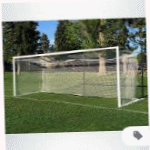goals: (11, 45, 140, 111)
